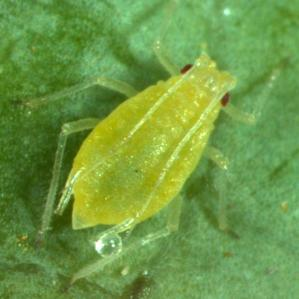Green peach aphid: (22, 17, 277, 272)
